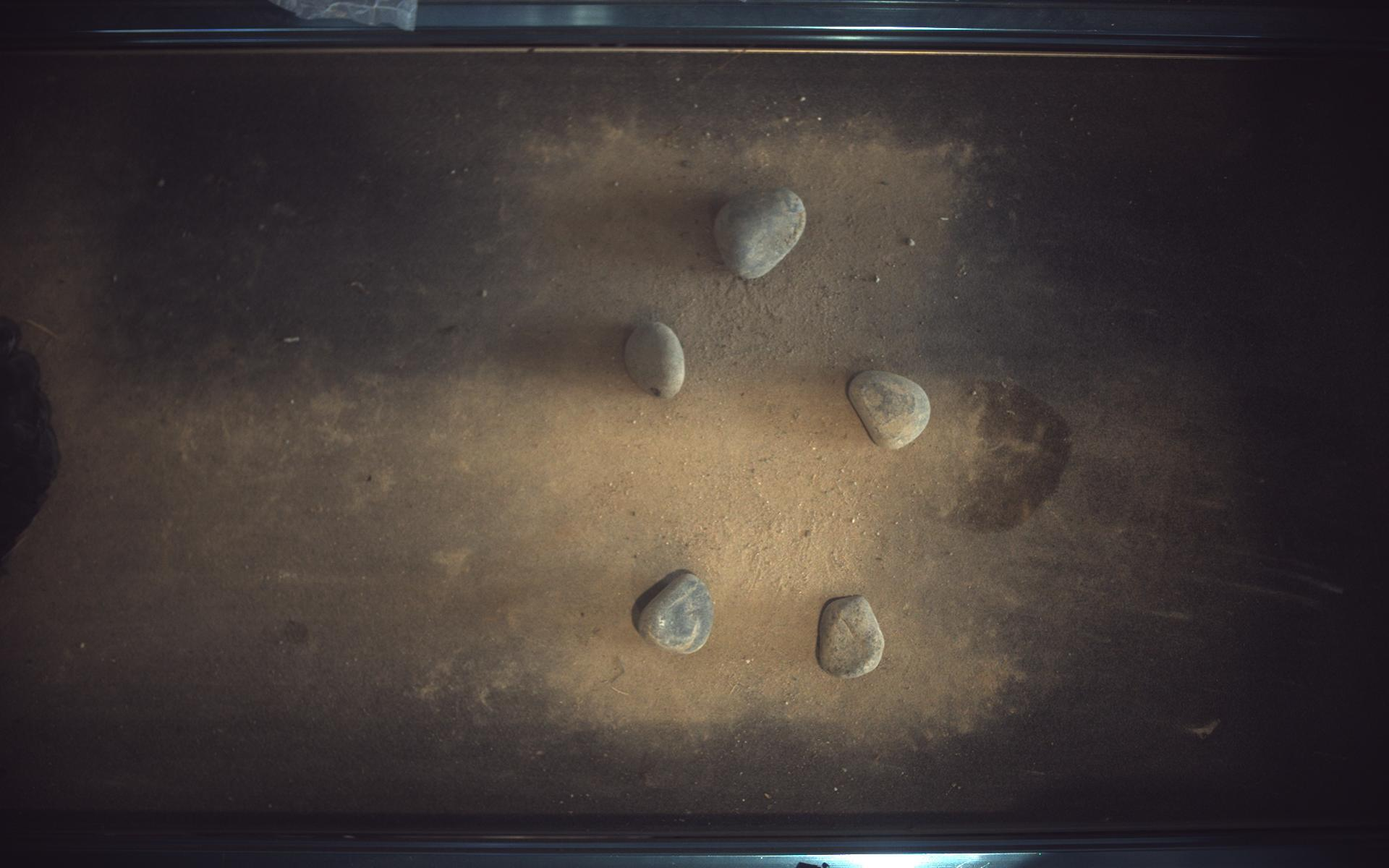stone: (715, 187, 807, 279), (632, 570, 715, 655), (849, 370, 933, 450), (817, 596, 886, 680), (627, 322, 686, 399)
